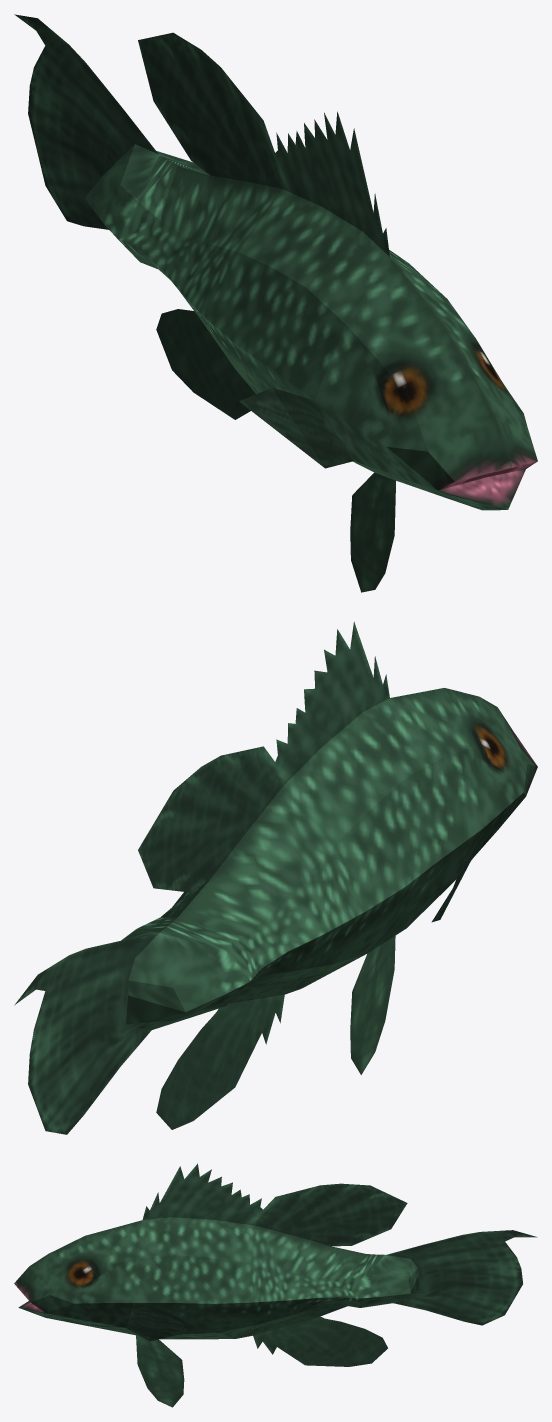
The model's file is seabass.glb.
3 views of the same model, one above another, from view 1: azimuth 30°, elevation 25°; view 2: azimuth 150°, elevation 25°; view 3: azimuth 270°, elevation 25° (orthographic). The views are drawn at different scales.
Parts seen in each view (by area): view 1: Cube; view 2: Cube; view 3: Cube.
Boxes of the visible parts, x1,y1,x2,y2 form: Cube: (14,14,537,592); Cube: (14,621,537,1134); Cube: (14,1163,537,1407).
Size of the model in its own units: 1.1 by 2.4 by 4.66.
1 material, 1 textured.
